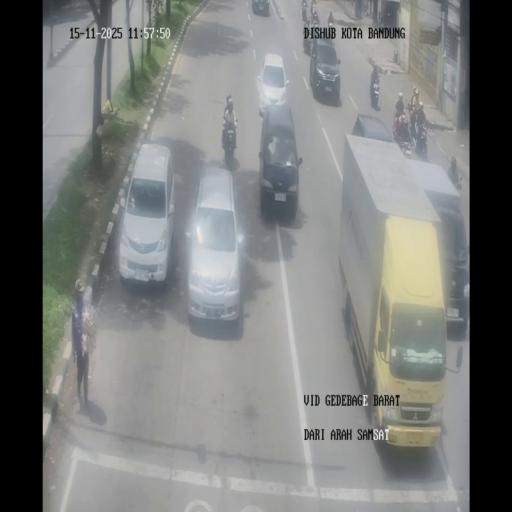3: (340, 135, 455, 444)
car: (185, 166, 244, 326), (118, 142, 174, 286), (428, 193, 470, 329), (257, 102, 301, 220), (257, 53, 289, 118), (310, 42, 340, 103), (351, 114, 394, 142), (252, 0, 270, 16)
truck: (221, 106, 238, 164), (396, 128, 412, 158), (415, 124, 428, 157), (369, 74, 381, 109), (302, 24, 312, 56), (408, 113, 418, 143), (393, 109, 401, 138), (310, 4, 320, 26), (411, 86, 420, 110), (328, 21, 336, 42), (362, 0, 369, 17), (302, 5, 308, 22), (455, 177, 462, 190), (306, 10, 311, 26), (378, 10, 382, 23)
